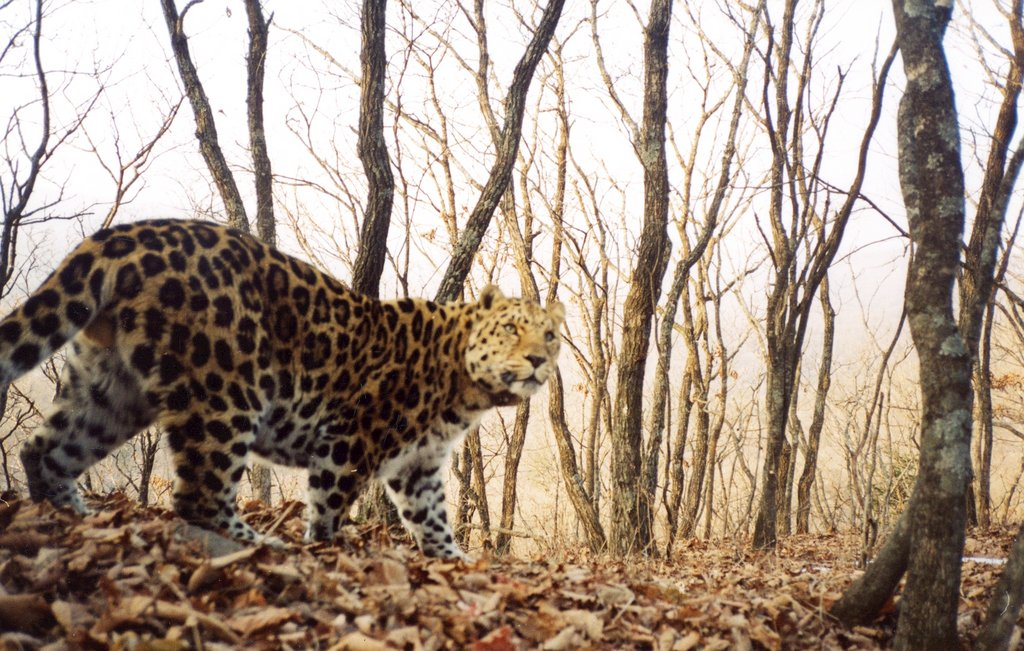amur_leopard: (7, 125, 570, 571)
